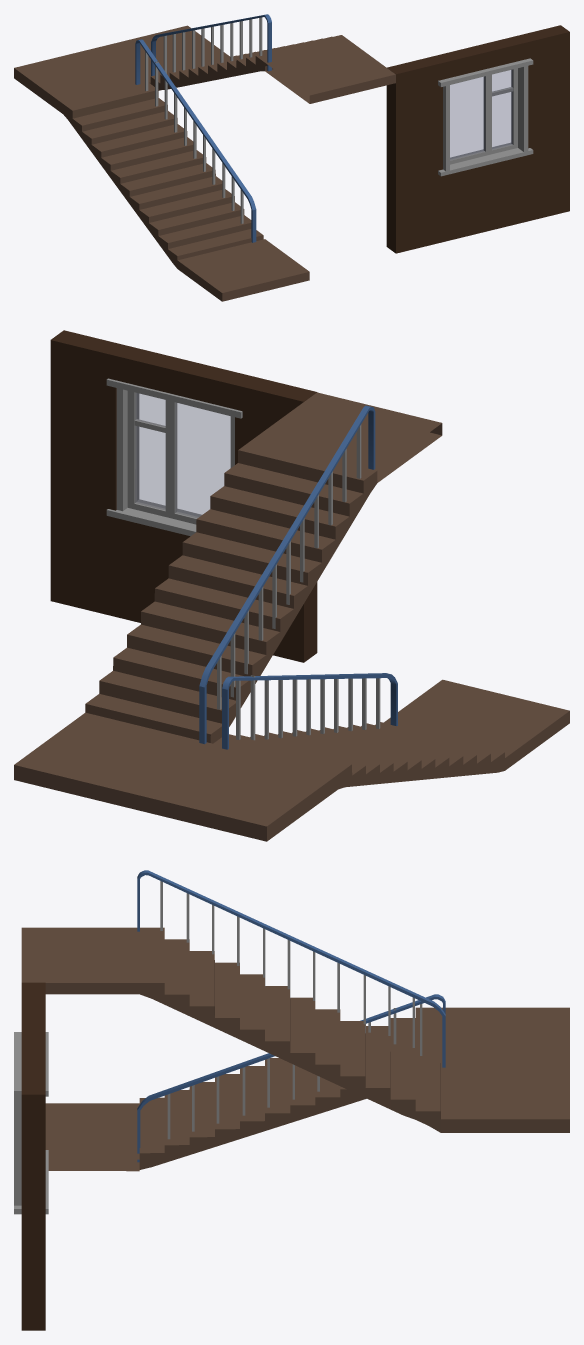
3 renders of one model, top to bottom at view 1: azimuth 30°, elevation 25°; view 2: azimuth 150°, elevation 25°; view 3: azimuth 270°, elevation 25°, orthographic. The views are drawn at different scales.
Parts seen in each view (by area): view 1: Floor_type3_stairs_020, Hub_1_077; view 2: Floor_type3_stairs_020, Hub_1_077; view 3: Floor_type3_stairs_020, Hub_1_077.
Part boxes in pixels (left/top/right/bottom): Floor_type3_stairs_020: left=14, top=14, right=395, bottom=301; Hub_1_077: left=386, top=25, right=569, bottom=253; Floor_type3_stairs_020: left=14, top=392, right=569, bottom=841; Hub_1_077: left=50, top=330, right=317, bottom=662; Floor_type3_stairs_020: left=21, top=870, right=569, bottom=1171; Hub_1_077: left=14, top=982, right=48, bottom=1330.
Bounding box in the file's own units: 568 × 358 × 598.
